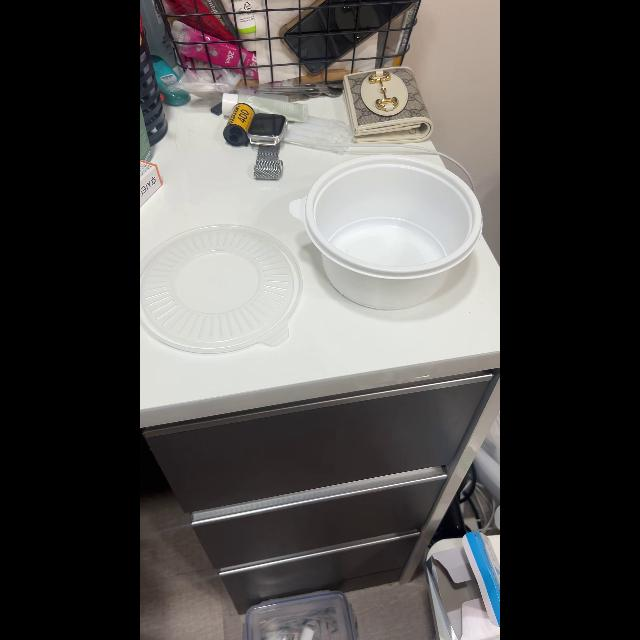clean: (308, 156, 488, 310), (142, 215, 302, 355)
